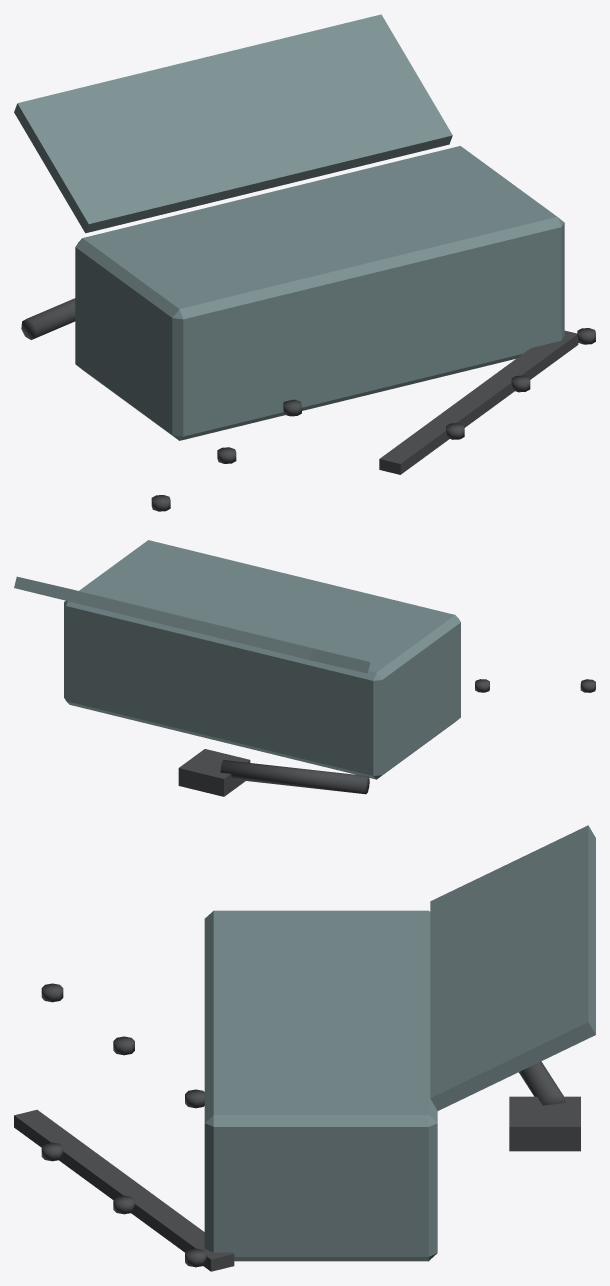
The model's file is clutter_tools.glb.
3 renders of one model, top to bottom at view 1: azimuth 30°, elevation 25°; view 2: azimuth 150°, elevation 25°; view 3: azimuth 270°, elevation 25°, orthographic. The views are drawn at different scales.
Visible parts, largest first — view 1: clutter_tools; view 2: clutter_tools; view 3: clutter_tools.
Part boxes in pixels (x1,y1,x2,y2): clutter_tools: [14, 14, 595, 511]; clutter_tools: [14, 540, 595, 796]; clutter_tools: [14, 825, 595, 1271].
Bounding box in the file's own units: 0.724 × 0.2898 × 0.6496.
